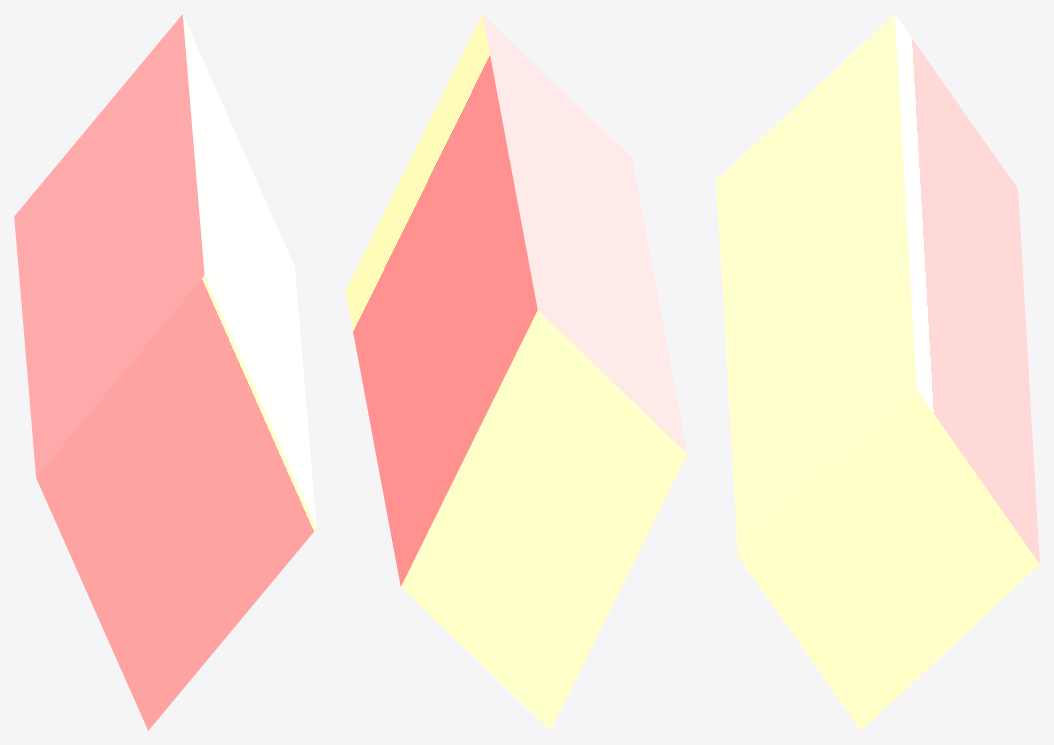
The model's file is golden_seed.glb.
The picture shows the model from 3 angles, left to right: view 1: azimuth 30°, elevation 25°; view 2: azimuth 150°, elevation 25°; view 3: azimuth 270°, elevation 25°; orthographic projection. The views are drawn at different scales.
Visible parts, largest first — view 1: Cube; view 2: Cube; view 3: Cube.
Boxes of the visible parts, x1,y1,x2,y2 form: Cube: [14, 14, 316, 730]; Cube: [345, 14, 687, 730]; Cube: [716, 14, 1039, 730].
Size of the model in its own units: 0.7216 by 1.62 by 0.6402.
